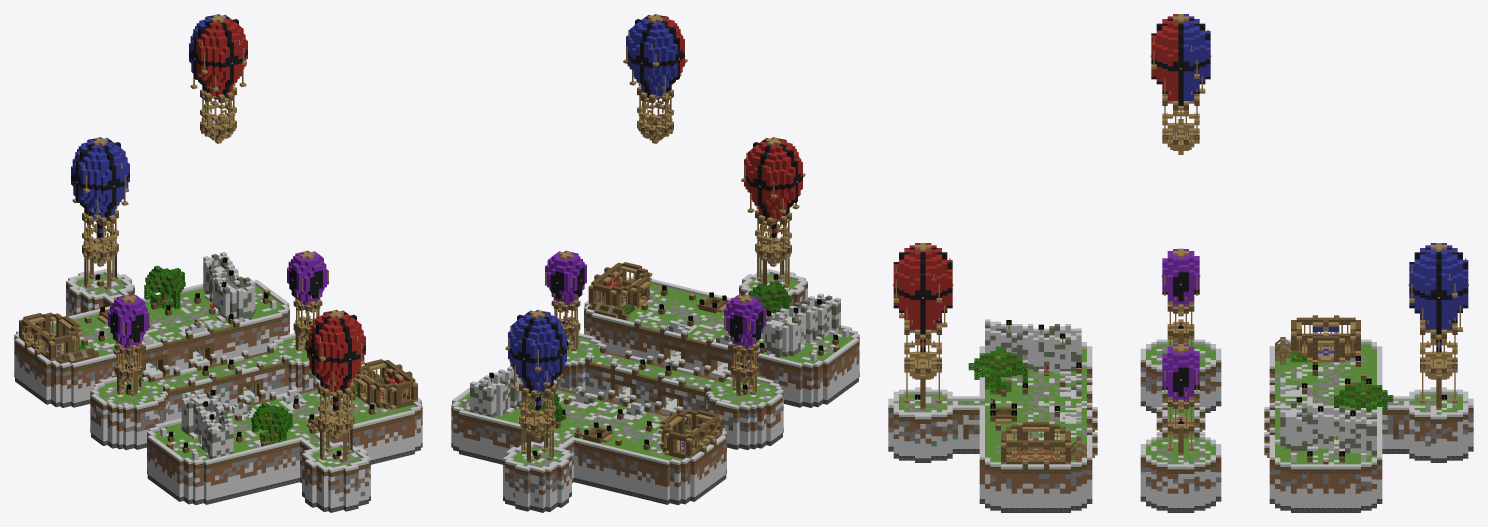
Rendered from minecraft.obj.
3 views of the same model, side by side, from view 1: azimuth 30°, elevation 25°; view 2: azimuth 150°, elevation 25°; view 3: azimuth 270°, elevation 25° (orthographic). The views are drawn at different scales.
Bounding box in the file's own units: 57 × 88.5 × 109.
